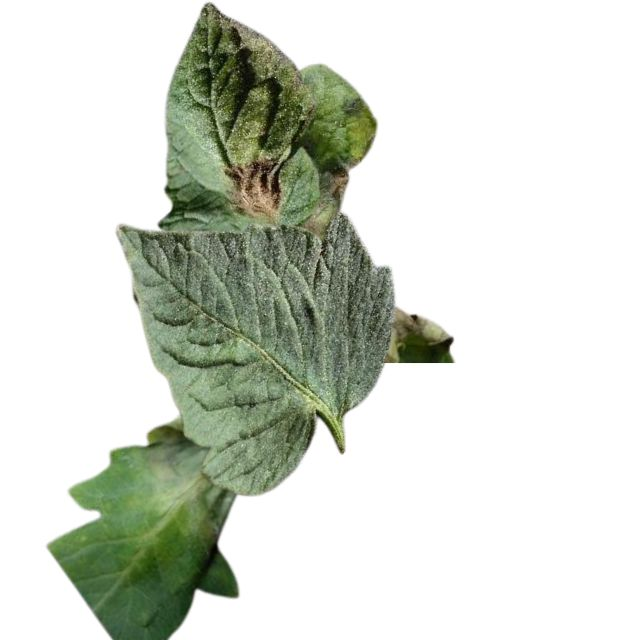Late_blight: (141, 418, 236, 553), (220, 157, 292, 221), (389, 309, 453, 367), (323, 152, 360, 200)
